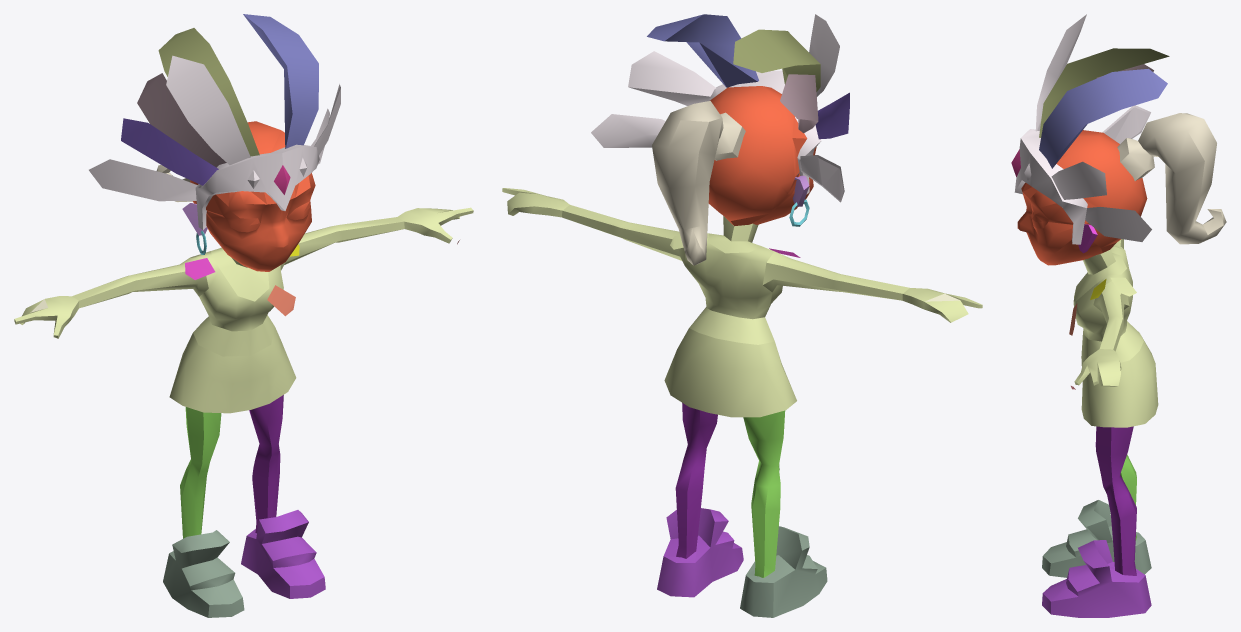
3 renders of one model, left to right at view 1: azimuth 30°, elevation 25°; view 2: azimuth 150°, elevation 25°; view 3: azimuth 270°, elevation 25°, orthographic. The views are drawn at different scales.
Visible parts, largest first — view 1: split_parent_35, split_parent_25, split_parent_27, Object_2.065, Object_2.053, Object_2.092, Object_2.058, Object_2.078, Object_2.097, Object_2.093, Object_2.100; view 2: split_parent_35, split_parent_27, split_parent_25, Object_2.036, Object_2.053, Object_2.065, Object_2.058, Object_2.078, Object_2.092, Object_2.100, Object_2.097, Object_2.093; view 3: split_parent_35, split_parent_25, Object_2.036, split_parent_27, Object_2.065, Object_2.092, Object_2.078, Object_2.053, Object_2.100, Object_2.058, Object_2.044.
Boxes of the visible parts, <box> form: split_parent_35: <box>14,207,473,413</box>; split_parent_25: <box>89,55,340,229</box>; split_parent_27: <box>190,121,315,271</box>; Object_2.065: <box>241,510,325,598</box>; Object_2.053: <box>163,530,244,617</box>; Object_2.092: <box>243,14,318,148</box>; Object_2.058: <box>180,407,221,538</box>; Object_2.078: <box>249,395,283,533</box>; Object_2.097: <box>137,73,226,167</box>; Object_2.093: <box>121,118,218,185</box>; Object_2.100: <box>158,28,259,156</box>; split_parent_35: <box>502,188,982,417</box>; split_parent_27: <box>708,86,816,226</box>; split_parent_25: <box>591,14,844,202</box>; Object_2.036: <box>652,101,745,265</box>; Object_2.053: <box>740,526,827,617</box>; Object_2.065: <box>657,508,743,597</box>; Object_2.058: <box>743,410,785,577</box>; Object_2.078: <box>675,403,717,558</box>; Object_2.092: <box>647,14,758,87</box>; Object_2.100: <box>733,29,820,91</box>; Object_2.097: <box>780,74,818,133</box>; Object_2.093: <box>815,92,849,139</box>; split_parent_35: <box>1073,239,1158,427</box>; split_parent_25: <box>1014,14,1151,244</box>; Object_2.036: <box>1117,113,1226,244</box>; split_parent_27: <box>1017,130,1147,265</box>; Object_2.065: <box>1042,540,1151,617</box>; Object_2.092: <box>1039,68,1167,168</box>; Object_2.078: <box>1095,426,1136,575</box>; Object_2.053: <box>1042,500,1151,577</box>; Object_2.100: <box>1039,48,1169,137</box>; Object_2.058: <box>1120,454,1136,540</box>; Object_2.044: <box>1078,224,1097,253</box>.
Size of the model in its own units: 0.8654 by 1 by 0.3635.
